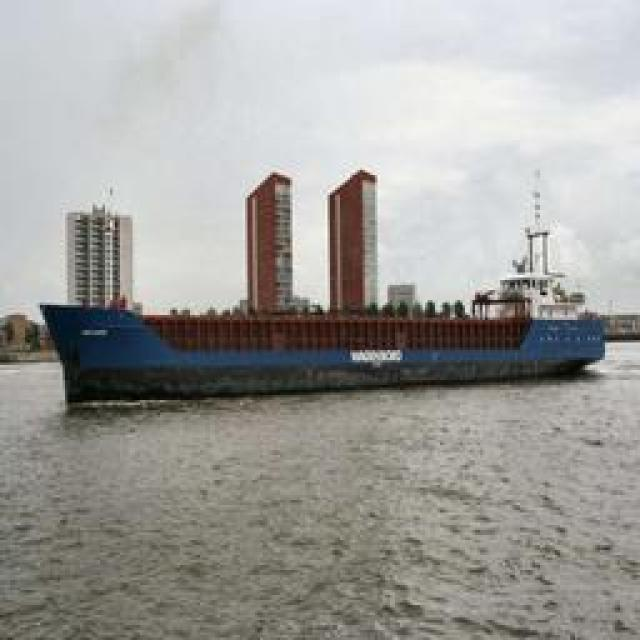CIV_Ship: (50, 278, 608, 398)
